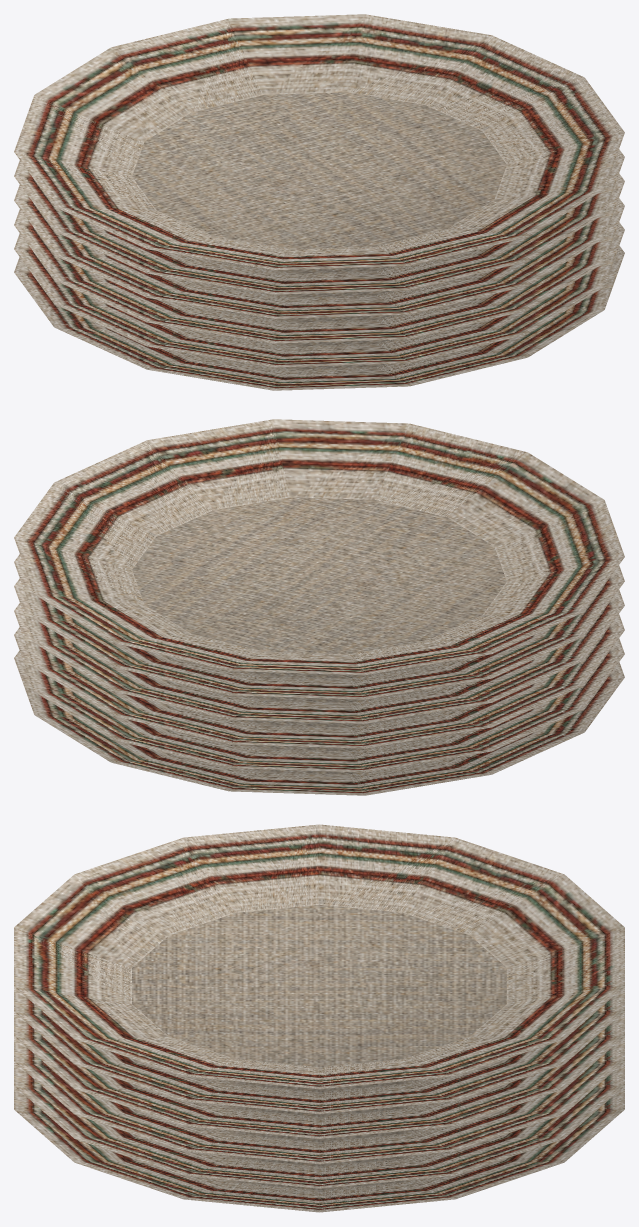
File: mm9_deco_platestack1set1.glb
3 renders of one model, top to bottom at view 1: azimuth 30°, elevation 25°; view 2: azimuth 150°, elevation 25°; view 3: azimuth 270°, elevation 25°, orthographic. The views are drawn at different scales.
Visible parts, largest first — view 1: Platestack1set1; view 2: Platestack1set1; view 3: Platestack1set1.
Boxes of the visible parts, box(x1,y1,x2,y2) form: Platestack1set1: box(14, 14, 624, 390); Platestack1set1: box(14, 419, 624, 795); Platestack1set1: box(14, 824, 624, 1212).
Size of the model in its own units: 0.5001 by 0.1364 by 0.4875.
Materials: 1 (1 with a texture image).
